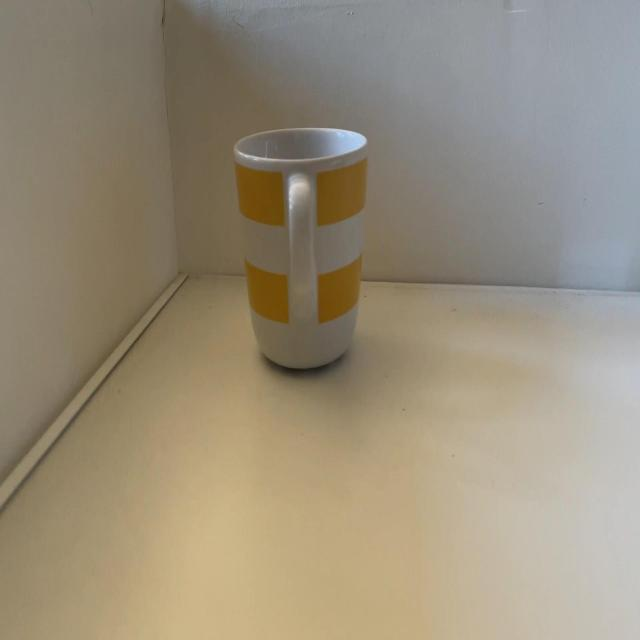cup: (232, 125, 382, 372)
